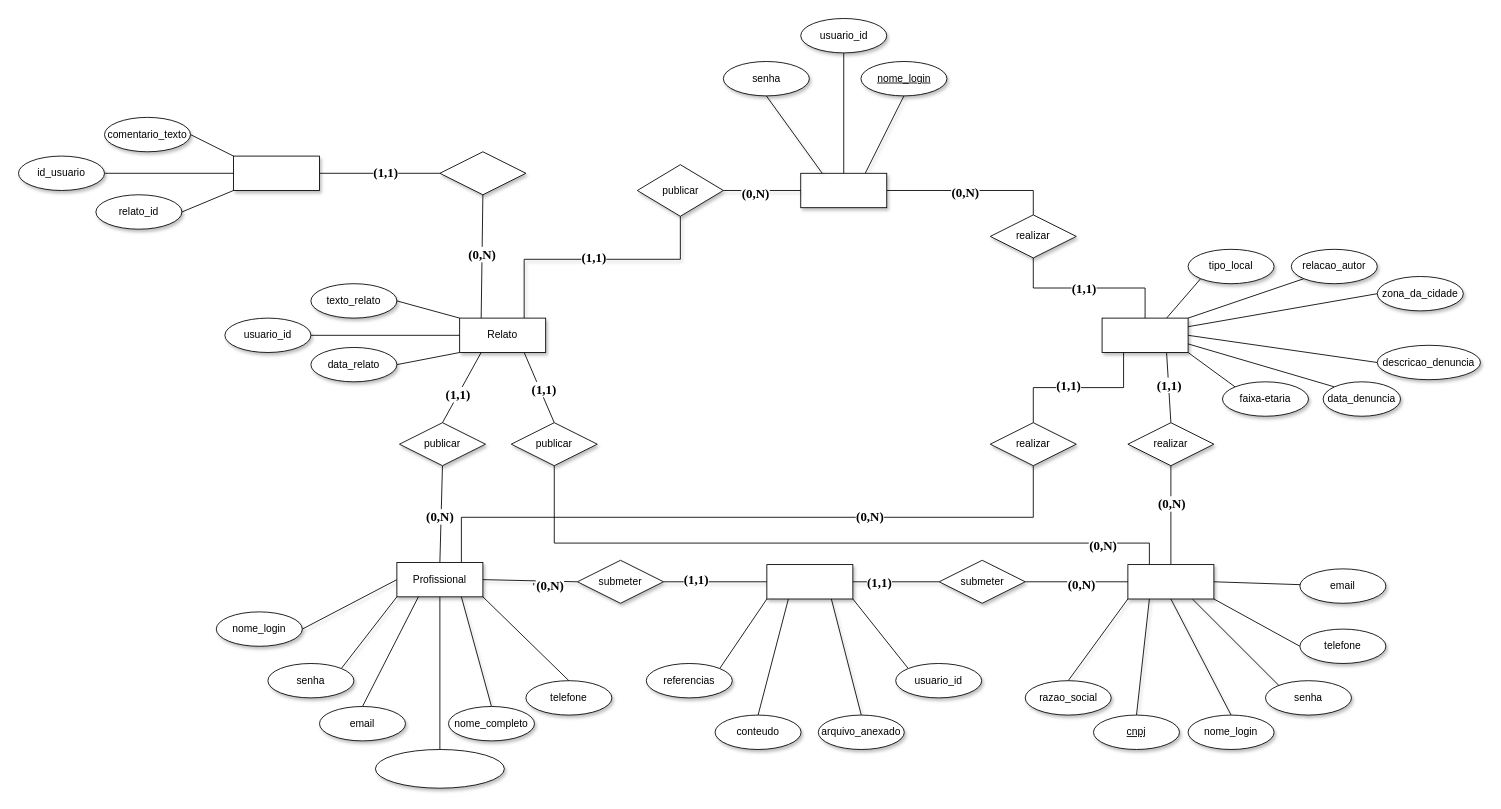
This 1501x809 diagram has some shape labels left out. Each missing label, with the centre of its shape:
"Comentario" goes at [277,174].
"Denuncia" goes at [1145,336].
"Material" goes at [810,582].
"num_cadastro_conselho" goes at [440,769].
"ONG" goes at [1171,582].
"tem" goes at [483,174].
"UsuarioAnonimo" goes at [844,191].
